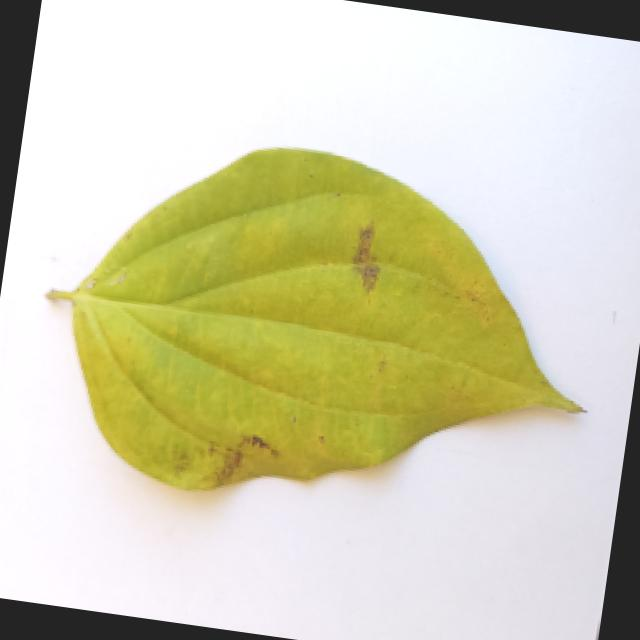slow-decline: (22, 116, 631, 561)
